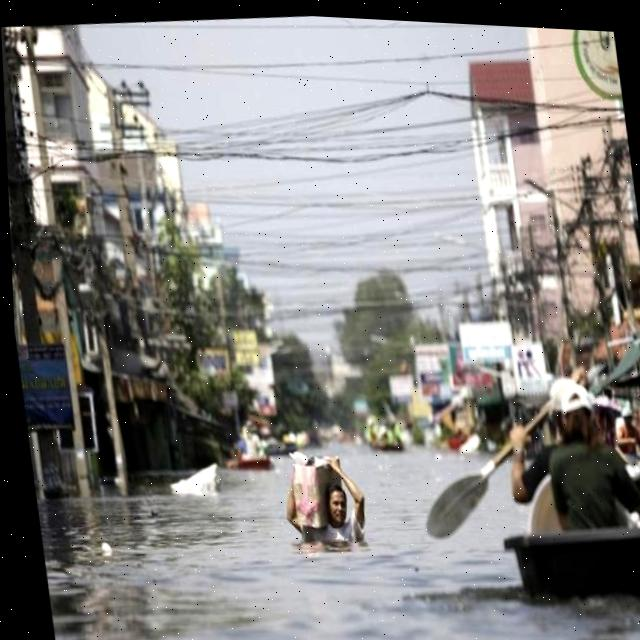civilian: (526, 376, 640, 553), (498, 365, 611, 509), (274, 452, 373, 554)
